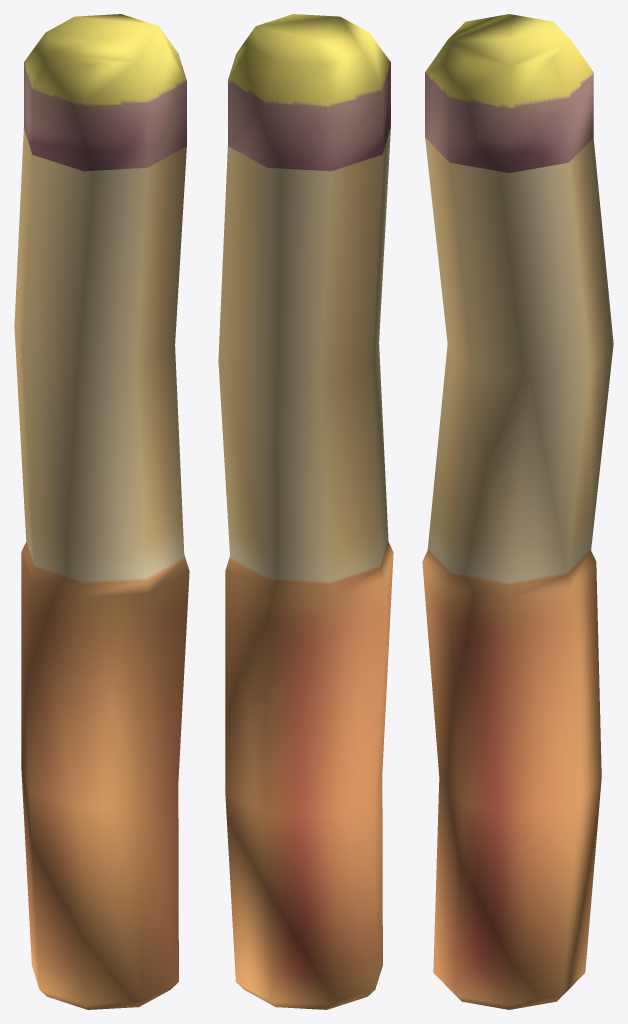
The model's file is Cig_Half.fbx.
3 renders of one model, left to right at view 1: azimuth 30°, elevation 25°; view 2: azimuth 150°, elevation 25°; view 3: azimuth 270°, elevation 25°, orthographic.
Parts seen in each view (by area): view 1: Cig_Half; view 2: Cig_Half; view 3: Cig_Half.
Boxes of the visible parts, x1,y1,x2,y2 form: Cig_Half: (14, 14, 189, 1009); Cig_Half: (218, 14, 393, 1009); Cig_Half: (422, 14, 613, 1009).
Bounding box in the file's own units: 124 × 738 × 136.
